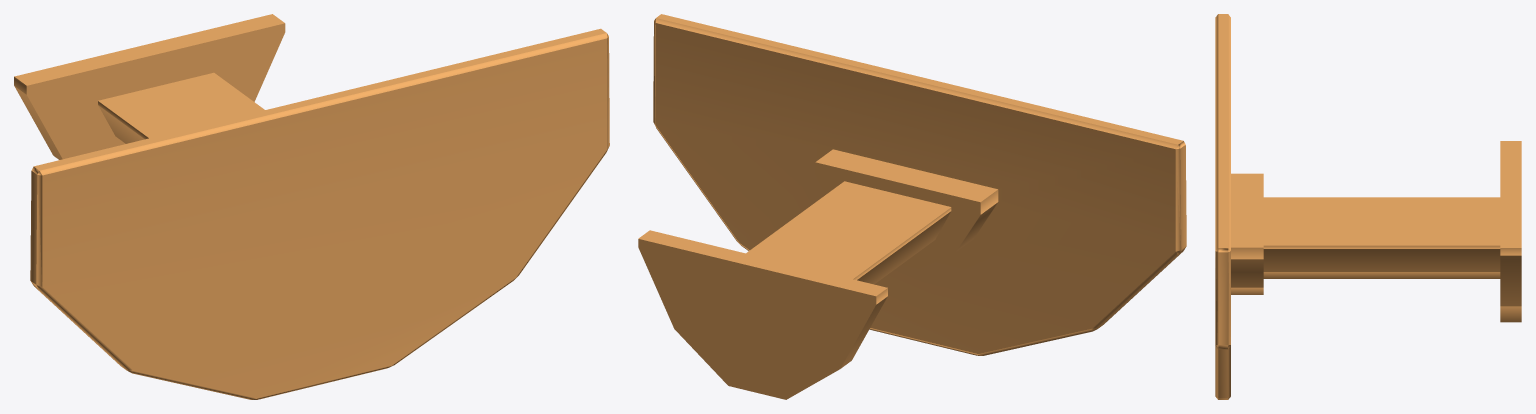
Rendered from MeshSideTable_213_1_0.obj.
3 renders of one model, left to right at view 1: azimuth 30°, elevation 25°; view 2: azimuth 150°, elevation 25°; view 3: azimuth 270°, elevation 25°, orthographic. The views are drawn at different scales.
Parts seen in each view (by area): view 1: SideTable_213_1; view 2: SideTable_213_1; view 3: SideTable_213_1.
Part boxes in pixels (x1,y1,x2,y2): SideTable_213_1: (14,14,609,399); SideTable_213_1: (638,14,1186,399); SideTable_213_1: (1215,14,1521,399).
Size of the model in its own units: 1.09 by 0.5115 by 0.5954.
